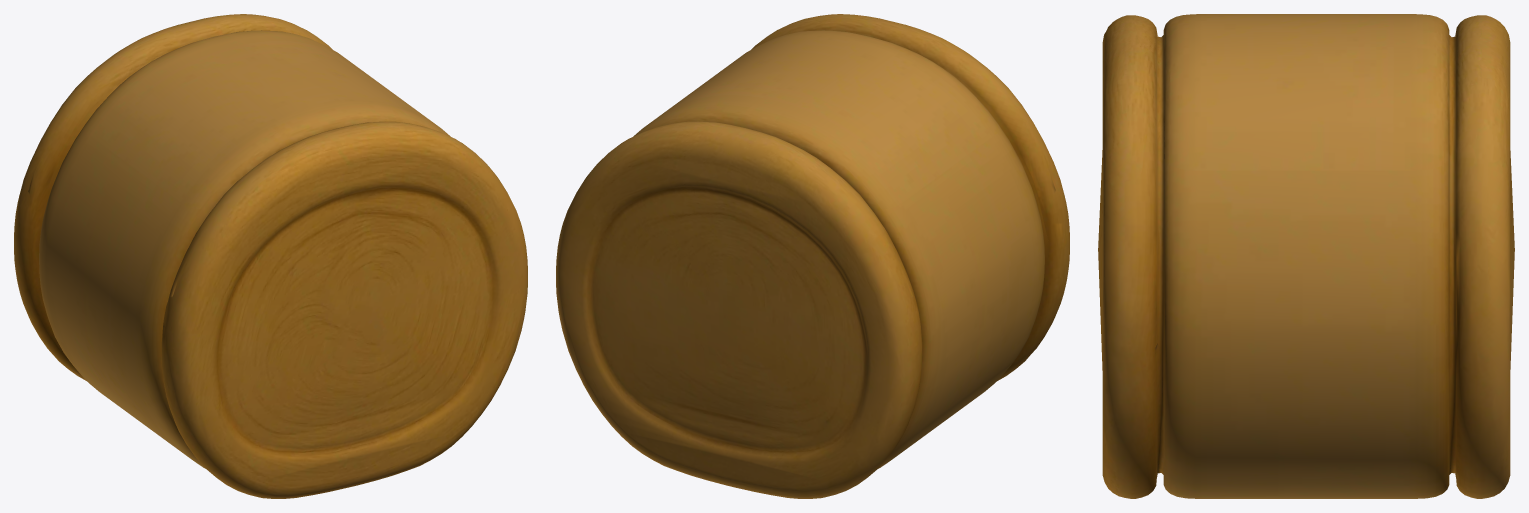
The model's file is a_hay_bale_6888aecb_v3.glb.
The picture shows the model from 3 angles, left to right: view 1: azimuth 30°, elevation 25°; view 2: azimuth 150°, elevation 25°; view 3: azimuth 270°, elevation 25°; orthographic projection. The views are drawn at different scales.
Visible parts, largest first — view 1: material; view 2: material; view 3: material.
Boxes of the visible parts, x1=… form: material: x1=14, y1=14, x2=527, y2=498; material: x1=556, y1=14, x2=1069, y2=498; material: x1=1098, y1=14, x2=1514, y2=498.
Size of the model in its own units: 1.9 by 1.81 by 1.62.
Materials: 1 (1 with a texture image).
